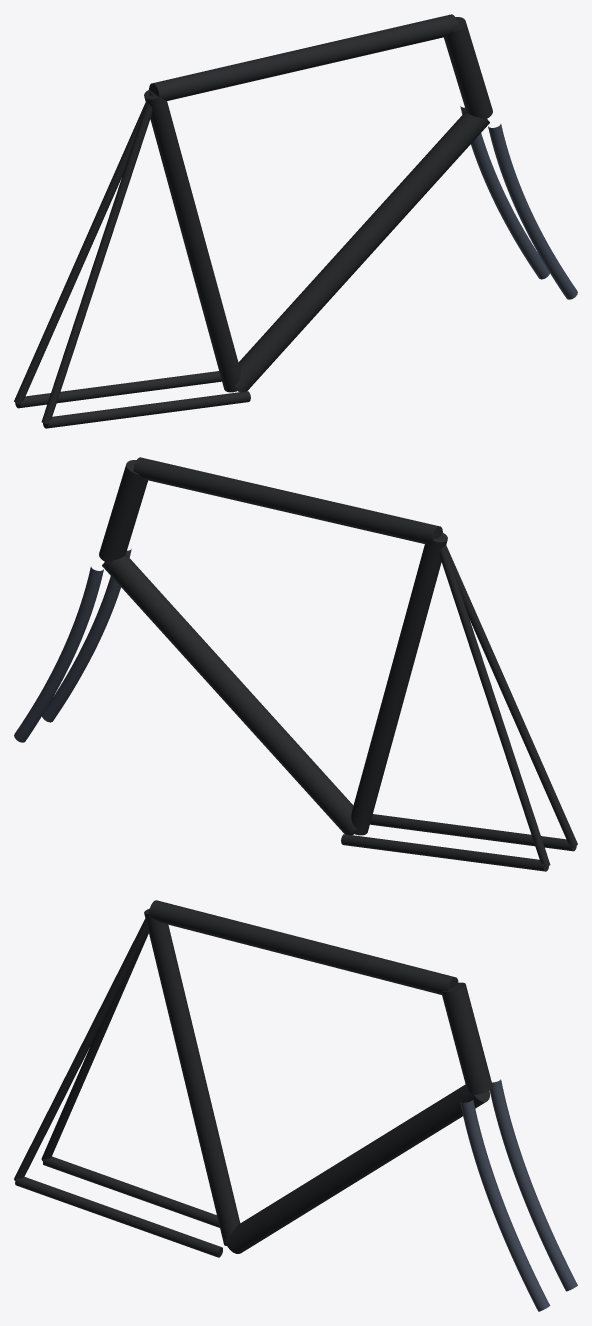
Rendered from dosnoventa-02-la-l.glb.
3 renders of one model, top to bottom at view 1: azimuth 30°, elevation 25°; view 2: azimuth 150°, elevation 25°; view 3: azimuth 330°, elevation 25°, orthographic.
Parts seen in each view (by area): view 1: paint_down, paint_top, paint_seat, paint_seatstay_0.045, paint_seatstay_-0.045, fork_0.045, paint_head, paint_chainstay_0.045, paint_chainstay_-0.045, fork_-0.045; view 2: paint_down, paint_top, paint_seat, paint_seatstay_-0.045, paint_seatstay_0.045, fork_-0.045, paint_head, paint_chainstay_-0.045, paint_chainstay_0.045, fork_0.045; view 3: paint_down, paint_seat, paint_top, fork_0.045, fork_-0.045, paint_head, paint_seatstay_0.045, paint_chainstay_0.045, paint_chainstay_-0.045, paint_seatstay_-0.045.
Part boxes in pixels (box(x1,y1,x2,y2)): paint_down: box(235, 111, 489, 392); paint_top: box(149, 14, 458, 100); paint_seat: box(144, 90, 240, 392); paint_seatstay_0.045: box(41, 93, 155, 424); paint_seatstay_-0.045: box(14, 91, 153, 404); fork_0.045: box(488, 124, 577, 299); paint_head: box(444, 17, 492, 118); paint_chainstay_0.045: box(43, 391, 250, 428); paint_chainstay_-0.045: box(15, 371, 221, 408); fork_-0.045: box(460, 106, 549, 279); paint_down: box(102, 554, 356, 835); paint_top: box(133, 457, 442, 543); paint_seat: box(351, 533, 447, 835); paint_seatstay_-0.045: box(436, 536, 550, 867); paint_seatstay_0.045: box(438, 534, 577, 847); fork_-0.045: box(14, 567, 103, 742); paint_head: box(99, 460, 147, 561); paint_chainstay_-0.045: box(341, 834, 548, 871); paint_chainstay_0.045: box(370, 814, 576, 851); fork_0.045: box(42, 549, 131, 722); paint_down: box(224, 1084, 489, 1253); paint_seat: box(144, 908, 240, 1245); paint_top: box(149, 900, 458, 994); fork_0.045: box(460, 1100, 550, 1311); fork_-0.045: box(489, 1079, 577, 1291); paint_head: box(441, 982, 492, 1094); paint_seatstay_0.045: box(14, 911, 149, 1180); paint_chainstay_0.045: box(15, 1177, 222, 1257); paint_chainstay_-0.045: box(43, 1156, 219, 1227); paint_seatstay_-0.045: box(41, 931, 148, 1160).
Size of the model in its own units: 1 by 0.5934 by 0.112.
